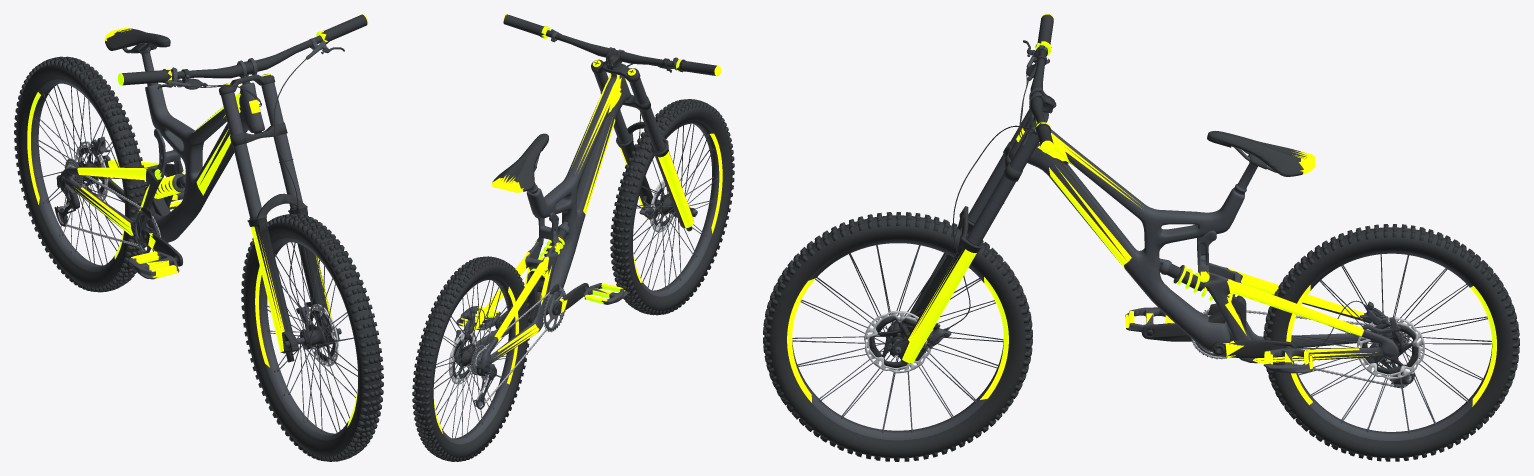
The model's file is bike-optimised-c.glb.
3 renders of one model, left to right at view 1: azimuth 30°, elevation 25°; view 2: azimuth 150°, elevation 25°; view 3: azimuth 270°, elevation 25°, orthographic. The views are drawn at different scales.
Visible parts, largest first — view 1: Bike-BlackMatt, Bike-BlackMetal, Bike-Logo, Bike-Bronze, Bike-Rings, chain, Bike-Chrome; view 2: Bike-BlackMatt, Bike-BlackMetal, Bike-Logo, Bike-Bronze, Bike-Rings, chain, Bike-Chrome_1; view 3: Bike-BlackMatt, Bike-BlackMetal, Bike-Logo, Bike-Bronze, Bike-Chrome, Bike-Chrome_1.
Boxes of the visible parts, <box> form: Bike-BlackMatt: <box>14,14,383,461</box>; Bike-BlackMetal: <box>31,38,357,440</box>; Bike-Logo: <box>27,27,357,427</box>; Bike-Bronze: <box>117,14,368,278</box>; Bike-Rings: <box>59,158,159,253</box>; chain: <box>57,165,160,253</box>; Bike-Chrome: <box>306,304,338,366</box>; Bike-BlackMatt: <box>412,14,734,461</box>; Bike-BlackMetal: <box>434,29,719,444</box>; Bike-Logo: <box>433,73,722,433</box>; Bike-Bronze: <box>458,14,721,328</box>; Bike-Rings: <box>470,287,565,406</box>; chain: <box>475,287,565,407</box>; Bike-Chrome_1: <box>448,331,477,384</box>; Bike-BlackMatt: <box>763,14,1519,461</box>; Bike-BlackMetal: <box>792,45,1492,440</box>; Bike-Logo: <box>787,128,1496,406</box>; Bike-Bronze: <box>1035,14,1313,368</box>; Bike-Chrome: <box>864,311,931,373</box>; Bike-Chrome_1: <box>1357,317,1424,379</box>.
Bounding box in the file's own units: 8.35 × 11.58 × 20.81.
